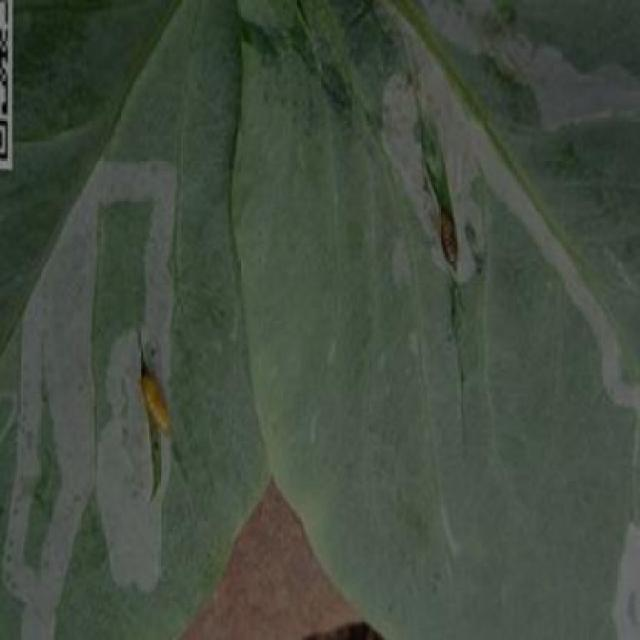whorl-maggot: (137, 368, 174, 444), (432, 198, 466, 276)
